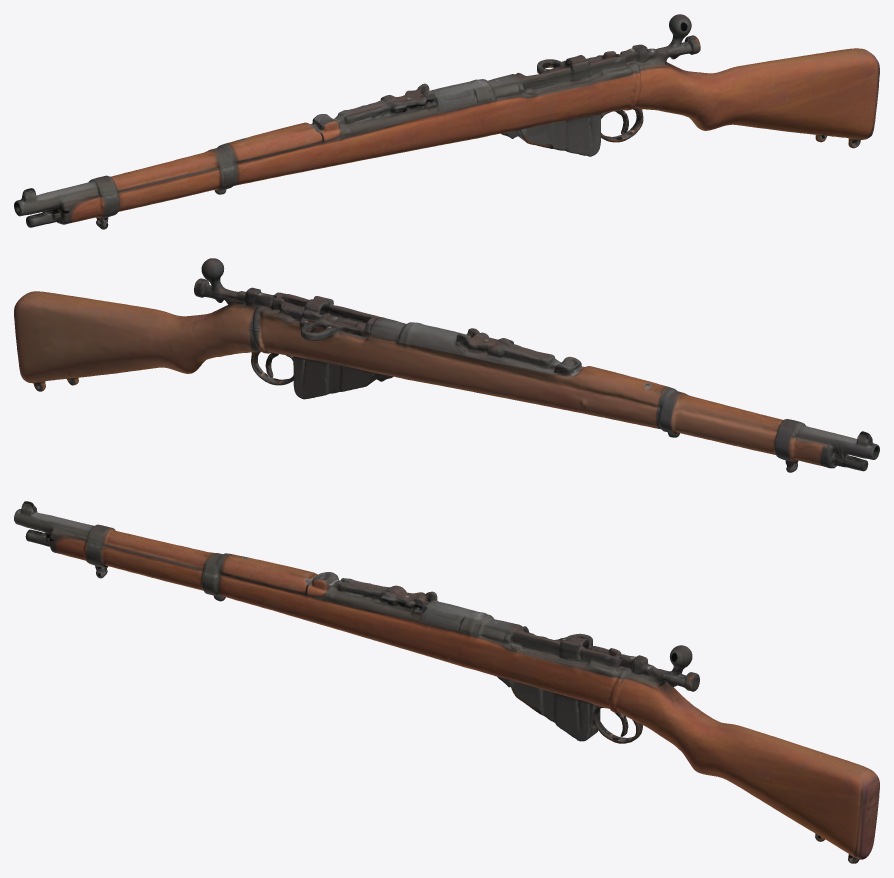
File: Lee_Enfield_Rifle_1030144916_texture.fbx
3 renders of one model, top to bottom at view 1: azimuth 30°, elevation 25°; view 2: azimuth 150°, elevation 25°; view 3: azimuth 330°, elevation 25°, orthographic.
Visible parts, largest first — view 1: input; view 2: input; view 3: input.
Part boxes in pixels (x1=…): input: x1=14, y1=14, x2=879, y2=229; input: x1=14, y1=258, x2=879, y2=472; input: x1=14, y1=501, x2=879, y2=863.
Bounding box in the file's own units: 190 × 36.89 × 12.98.
1 material, 1 textured.
